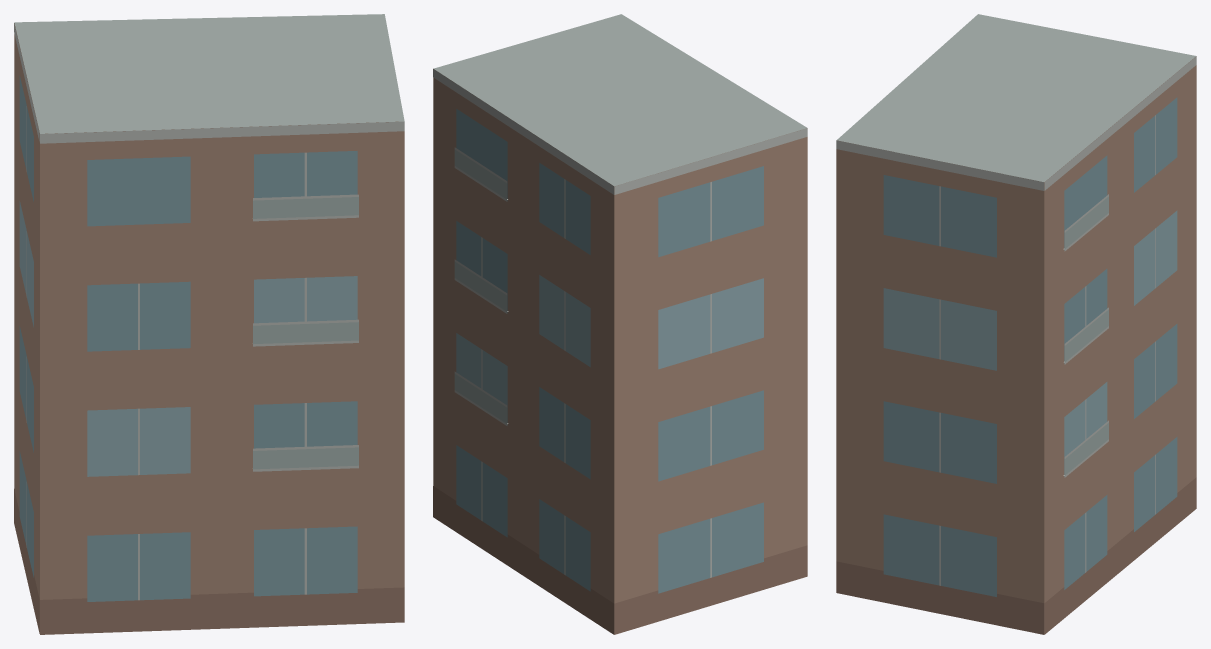
The model's file is survey-upis-32727870.glb.
3 views of the same model, side by side, from view 1: azimuth 30°, elevation 25°; view 2: azimuth 150°, elevation 25°; view 3: azimuth 270°, elevation 25° (orthographic). The views are drawn at different scales.
Visible parts, largest first — view 1: survey-upis-32727870.tmp; view 2: survey-upis-32727870.tmp; view 3: survey-upis-32727870.tmp.
Boxes of the visible parts, <box> form: survey-upis-32727870.tmp: <box>14,14,404,634</box>; survey-upis-32727870.tmp: <box>433,14,807,634</box>; survey-upis-32727870.tmp: <box>836,14,1196,634</box>.
Size of the model in its own units: 9.97 by 12.5 by 9.02.
